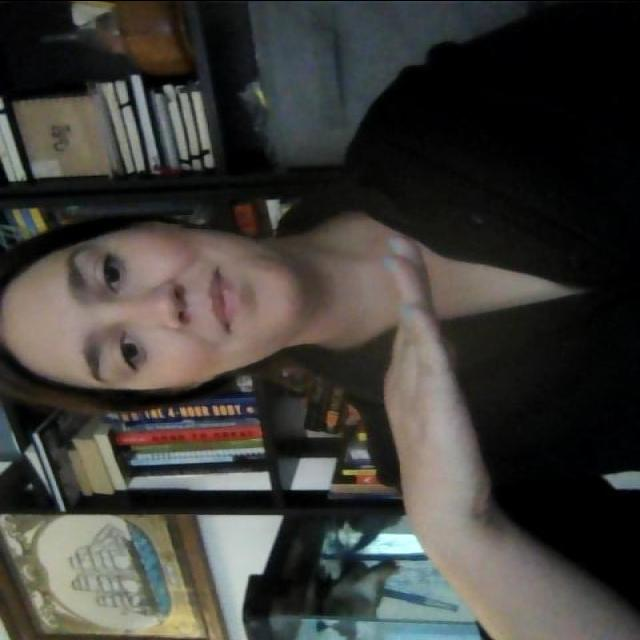Paper: (366, 248, 510, 516)
